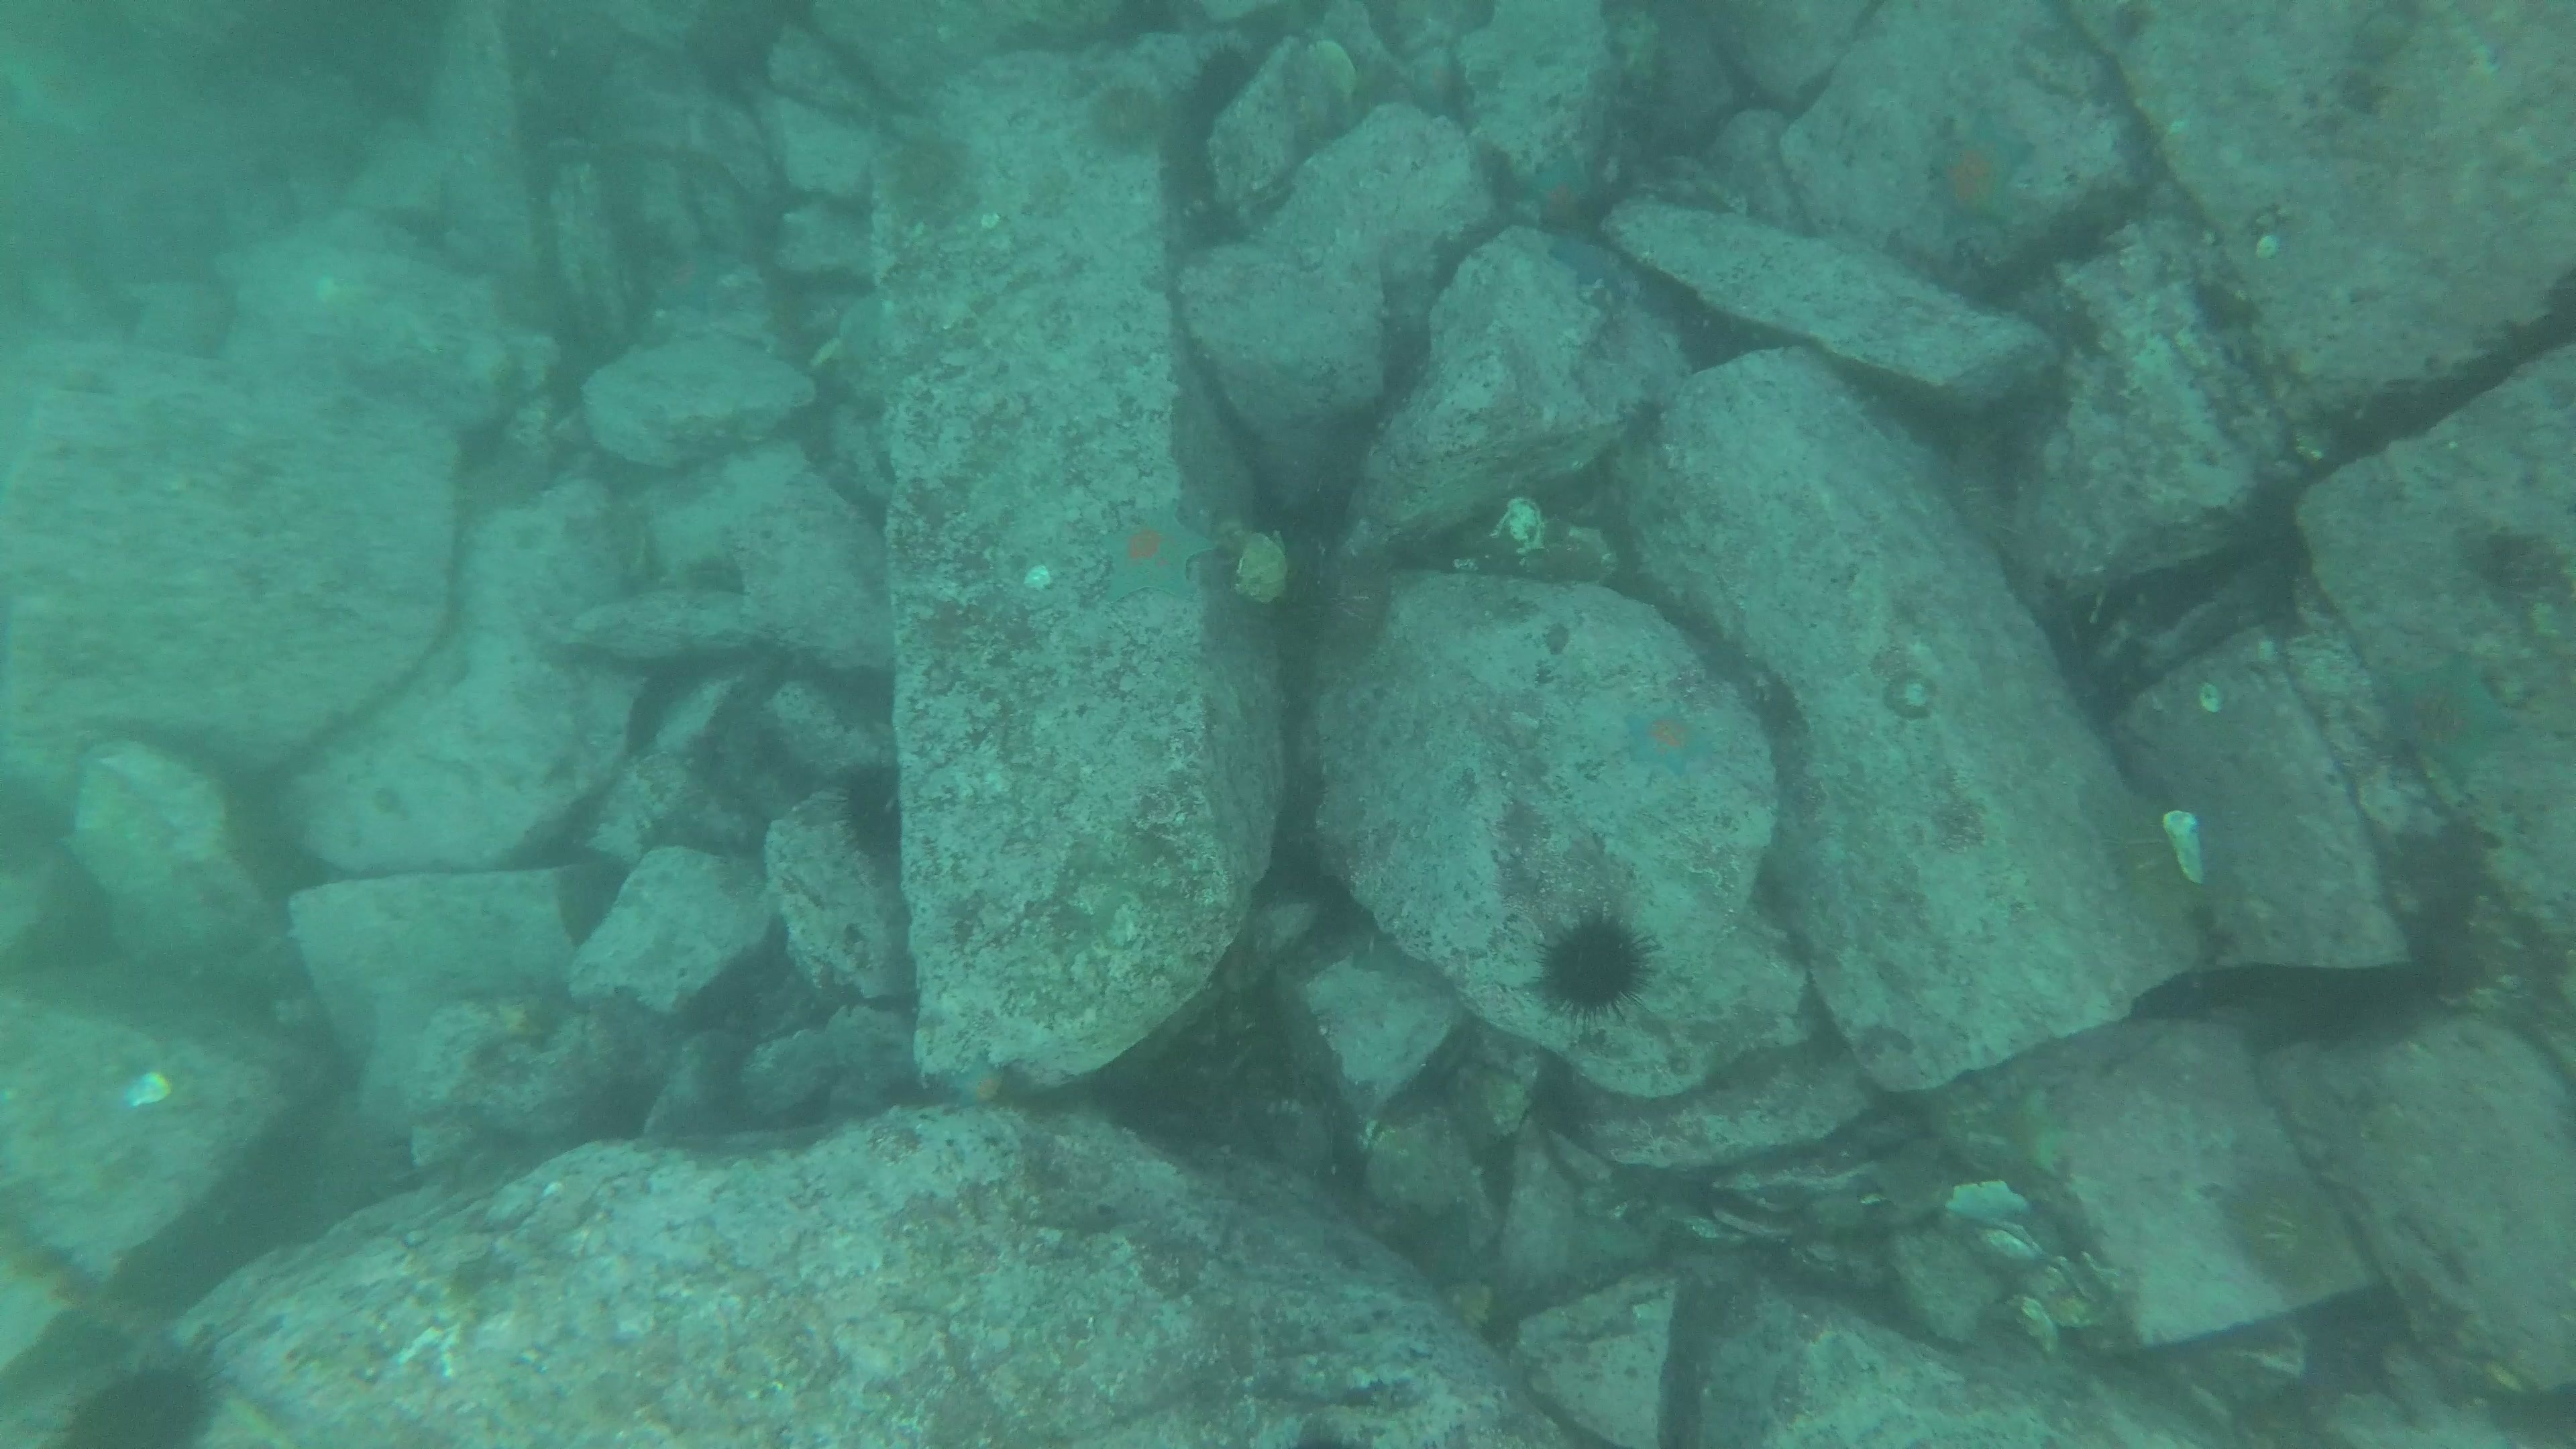echinus: (2215, 1161, 2360, 1299), (57, 1350, 232, 1444), (1530, 906, 1658, 1021), (874, 117, 980, 228), (826, 750, 913, 874), (1180, 39, 1251, 136)
starfish: (2367, 642, 2523, 803), (1916, 108, 2040, 242), (1088, 494, 1217, 609), (1502, 138, 1626, 244), (1612, 692, 1721, 786), (1996, 1079, 2075, 1169), (939, 1046, 1001, 1111)
